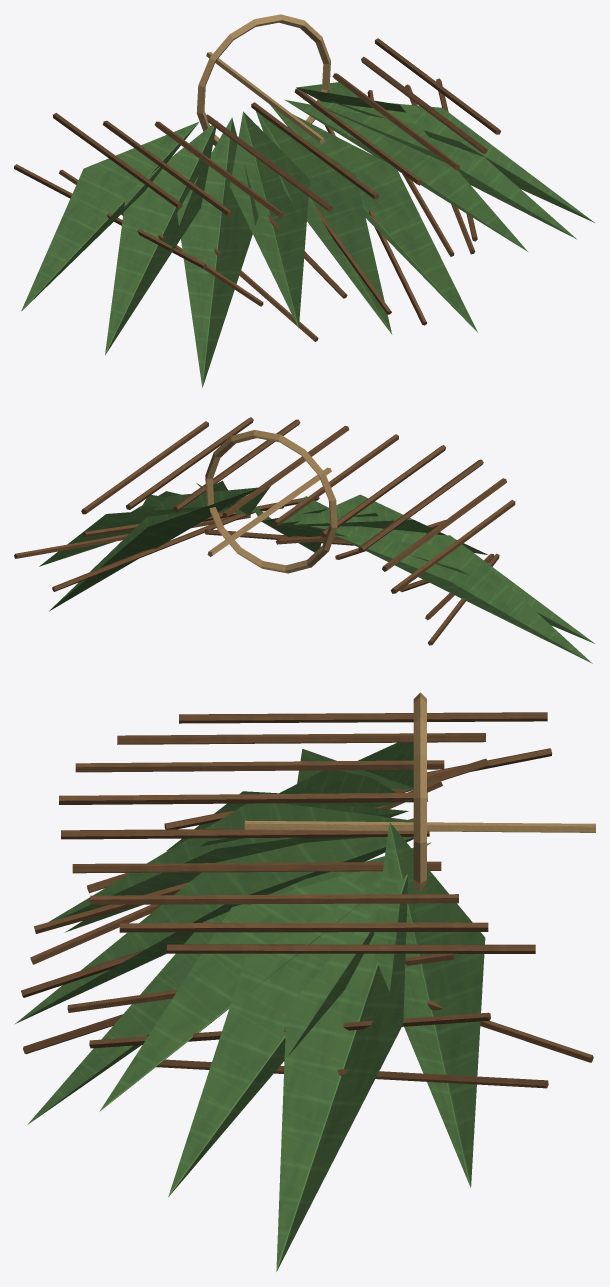
The model's file is pr-011_palm_leaf_pile__medium.obj.
3 views of the same model, one above another, from view 1: azimuth 30°, elevation 25°; view 2: azimuth 150°, elevation 25°; view 3: azimuth 270°, elevation 25° (orthographic). The views are drawn at different scales.
Visible parts, largest first — view 1: pr-011_palm_leaf_pile__medium; view 2: pr-011_palm_leaf_pile__medium; view 3: pr-011_palm_leaf_pile__medium.
Part boxes in pixels (<box>): pr-011_palm_leaf_pile__medium: <box>14,14,594,387</box>; pr-011_palm_leaf_pile__medium: <box>14,417,594,663</box>; pr-011_palm_leaf_pile__medium: <box>14,692,595,1271</box>.
Bounding box in the file's own units: 1.6 × 0.6483 × 0.9473.
Materials: 3 (3 with a texture image).
